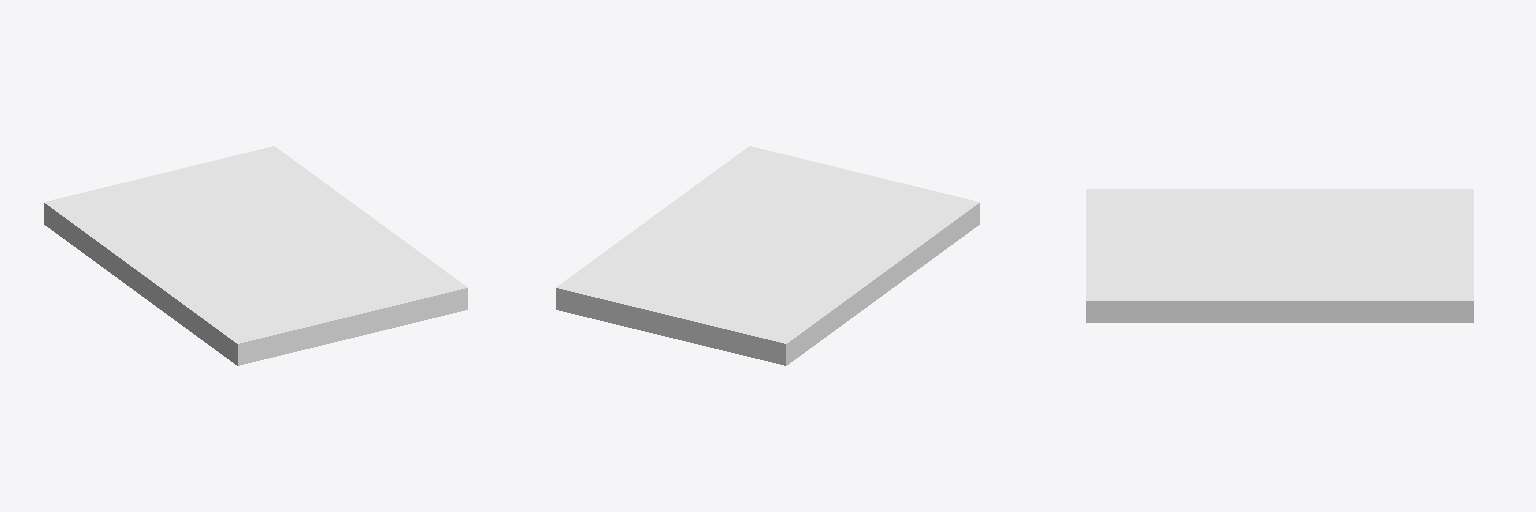
The model's file is stairs_shard-12.obj.
The picture shows the model from 3 angles: view 1: azimuth 30°, elevation 25°; view 2: azimuth 150°, elevation 25°; view 3: azimuth 270°, elevation 25°; orthographic projection.
Parts seen in each view (by area): view 1: object 1; view 2: object 1; view 3: object 1.
Boxes of the visible parts, box(x1,y1,x2,y2) form: object 1: box(44, 146, 467, 365); object 1: box(556, 146, 979, 365); object 1: box(1086, 189, 1473, 322).
Bounding box in the file's own units: 1.1 × 0.1 × 1.6.